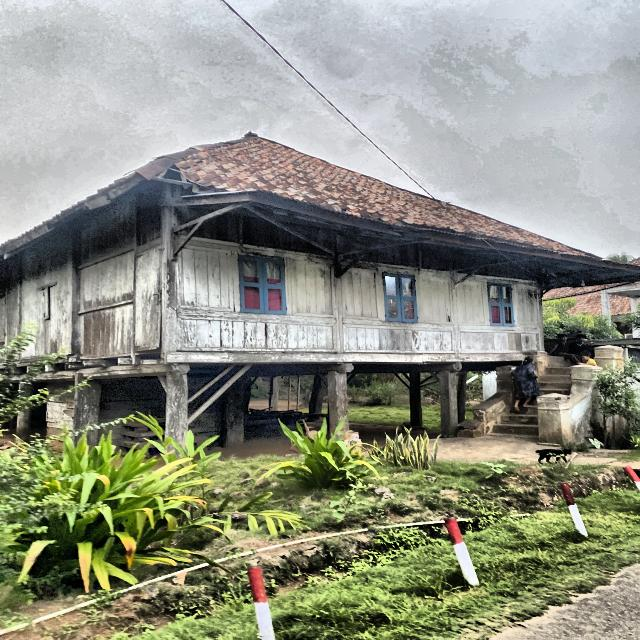column: (72, 381, 101, 460), (165, 372, 188, 460), (328, 372, 349, 442), (225, 377, 244, 448), (440, 371, 458, 435), (16, 382, 33, 443), (309, 374, 327, 414), (410, 373, 423, 426), (268, 376, 279, 411)
roof: (0, 131, 640, 289)
wall: (0, 183, 543, 365)
window: (238, 254, 286, 315), (383, 272, 418, 323), (487, 282, 514, 326)
